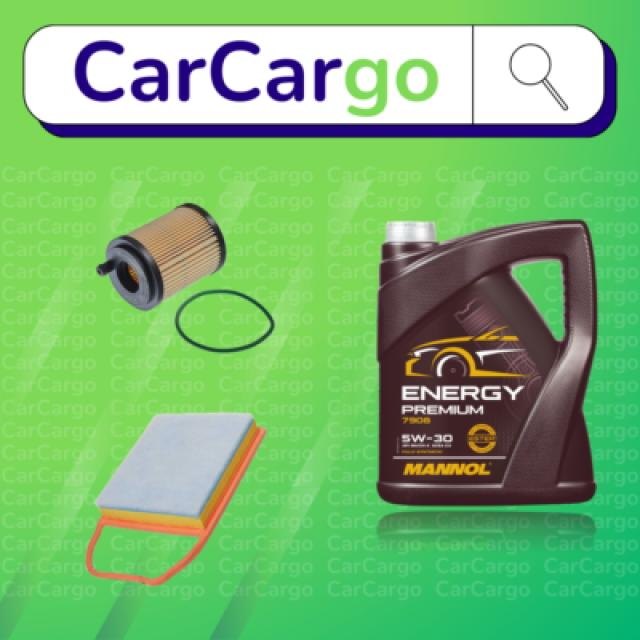air_filter: (83, 388, 274, 602)
motor_oil: (371, 217, 614, 511)
oil_filter: (95, 196, 285, 358)
